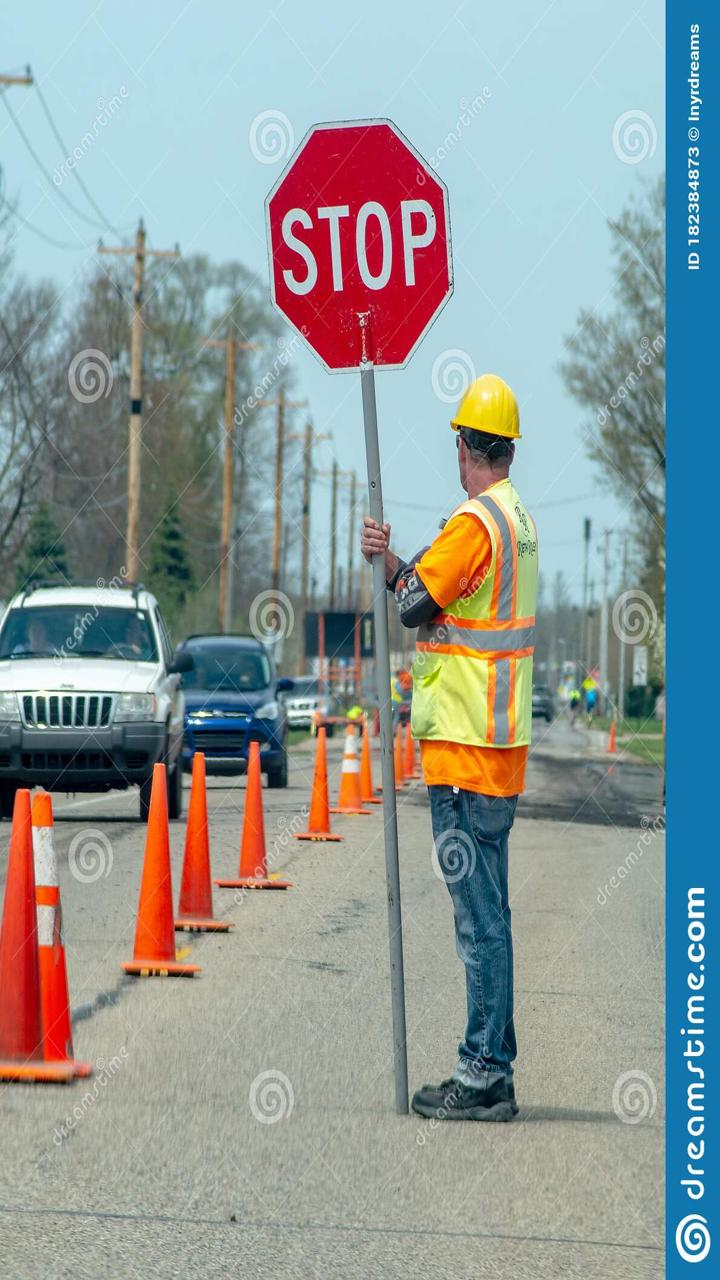Traffic sign: (240, 113, 464, 380)
pedestrian: (386, 337, 572, 1137)
vehicle: (1, 533, 184, 819), (173, 607, 284, 809)
